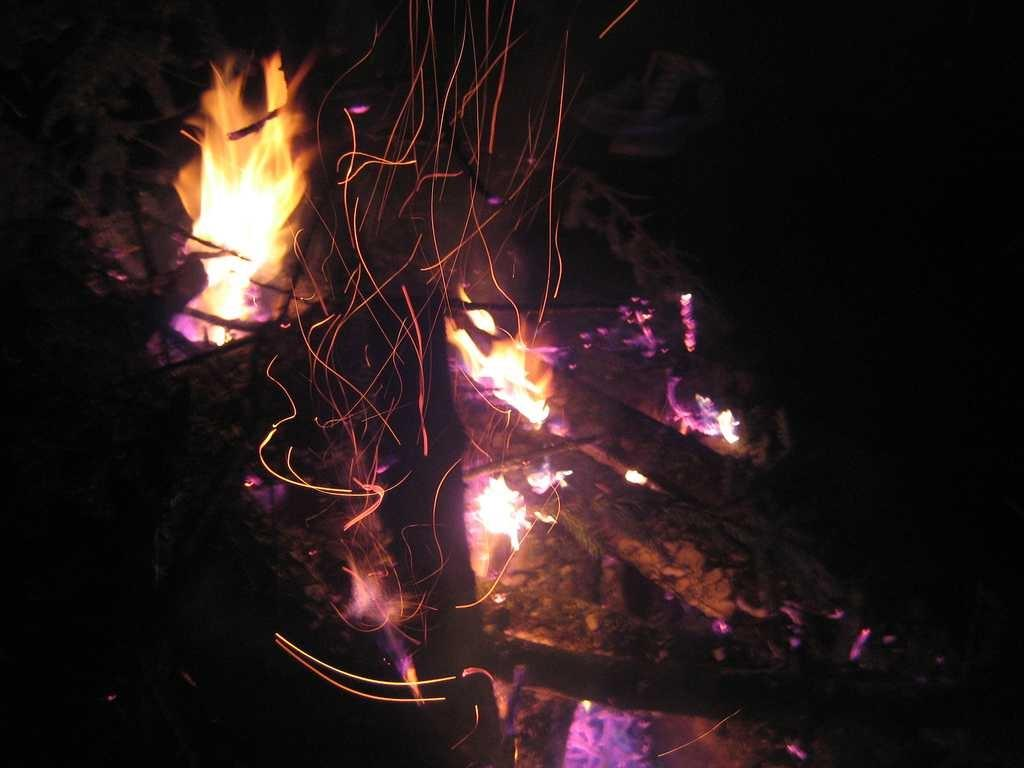fire: (179, 54, 331, 324), (441, 284, 595, 428), (443, 471, 557, 564)
